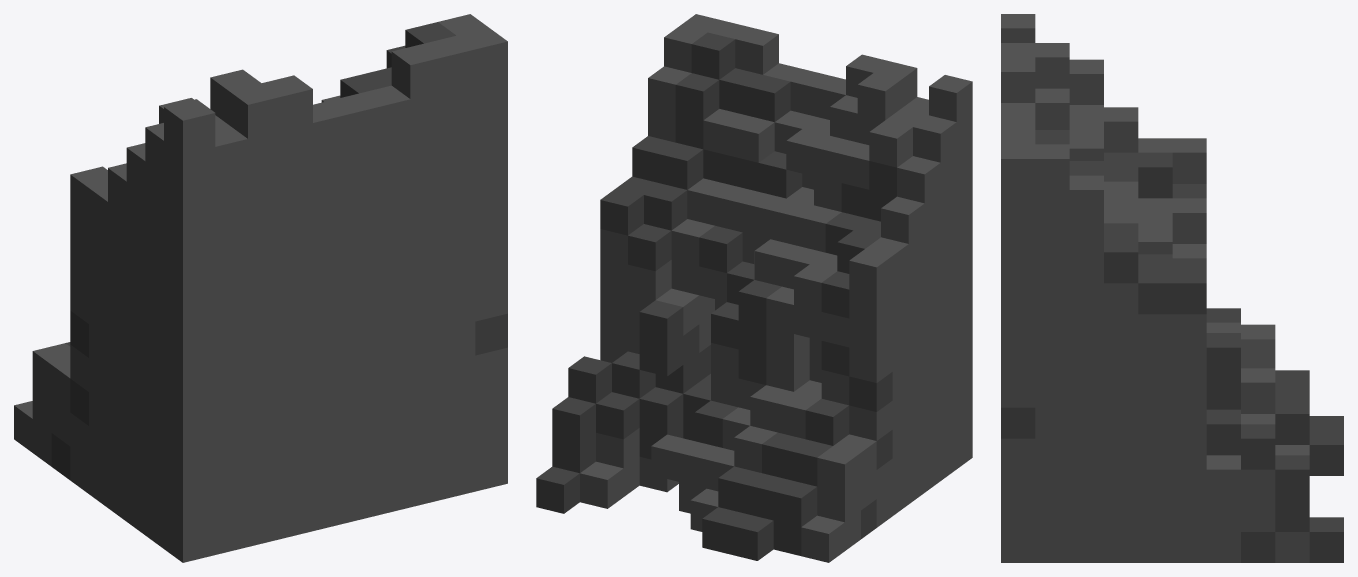
Rendered from Stein_Rand-03.obj.
3 views of the same model, side by side, from view 1: azimuth 30°, elevation 25°; view 2: azimuth 150°, elevation 25°; view 3: azimuth 270°, elevation 25° (orthographic). The views are drawn at different scales.
Size of the model in its own units: 1 by 1.3 by 1.
Materials: 1 (1 with a texture image).
